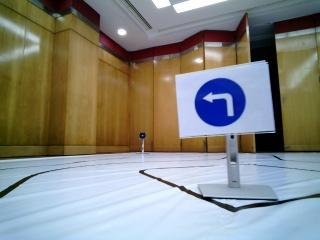left: (176, 71, 275, 136)
